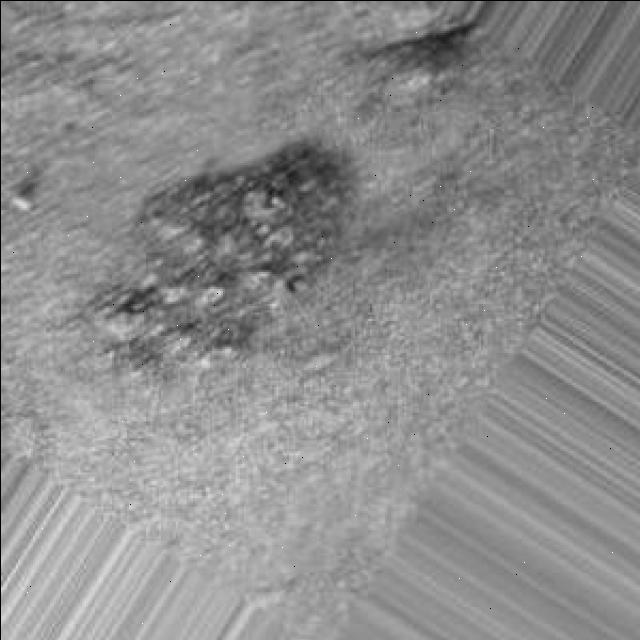Shingles: (90, 143, 347, 366)
